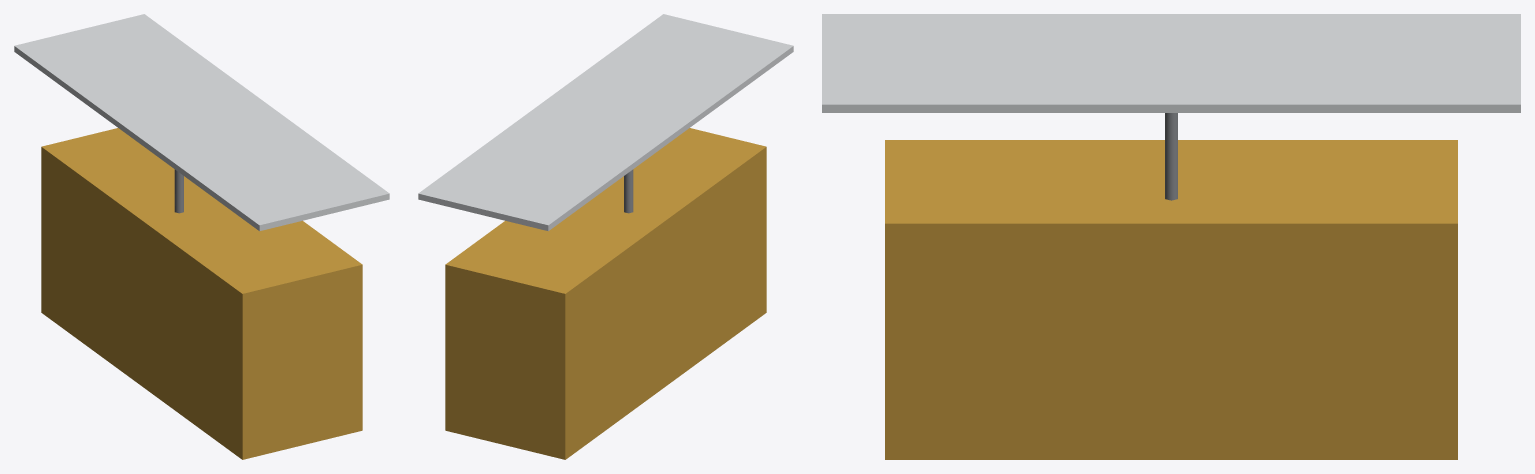
File: hr1_psu.obj
The picture shows the model from 3 angles, left to right: view 1: azimuth 30°, elevation 25°; view 2: azimuth 150°, elevation 25°; view 3: azimuth 270°, elevation 25°; orthographic projection. The views are drawn at different scales.
Parts seen in each view (by area): view 1: hr1_psu; view 2: hr1_psu; view 3: hr1_psu.
Part boxes in pixels (box(x1,y1,x2,y2)): hr1_psu: box(14, 14, 389, 459); hr1_psu: box(418, 14, 793, 459); hr1_psu: box(822, 14, 1520, 459).
Bounding box in the file's own units: 0.46 × 0.85 × 1.5.
